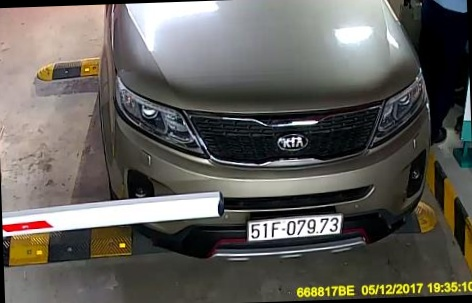plate: (242, 213, 344, 245)
